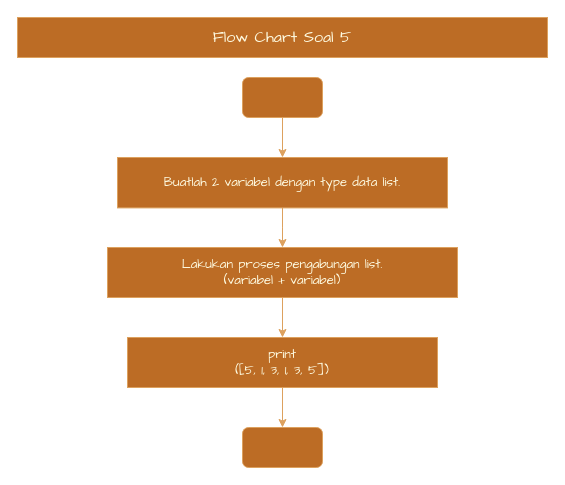
Some shapes in this 565 by 485 pixel diagram are drawn without their labels. Each missing label, with the centre of its shape:
"Mulai" belongs at point 282,97.
"Selesai" belongs at point 282,447.
